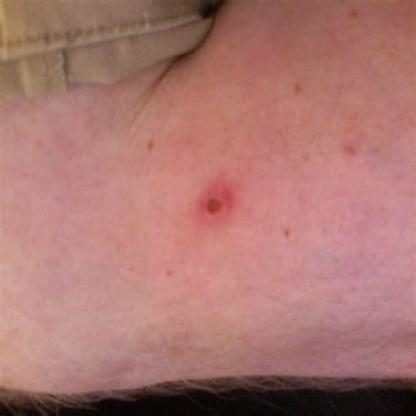Tick: (184, 180, 240, 236)
